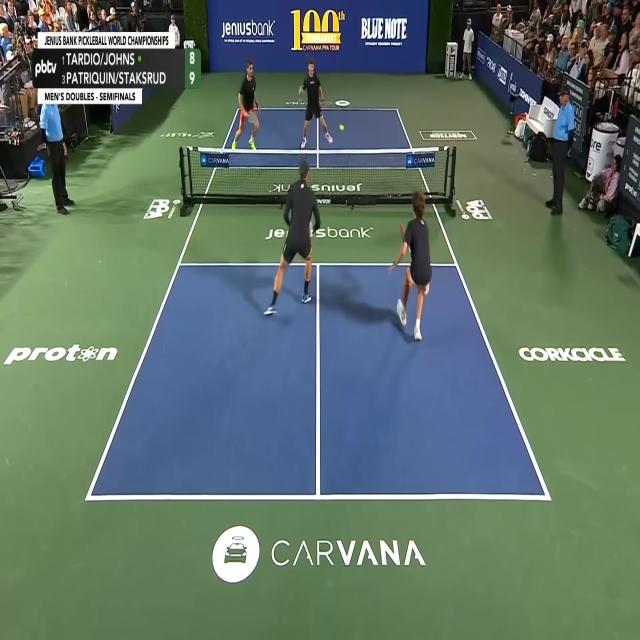ball: (339, 123, 344, 132)
